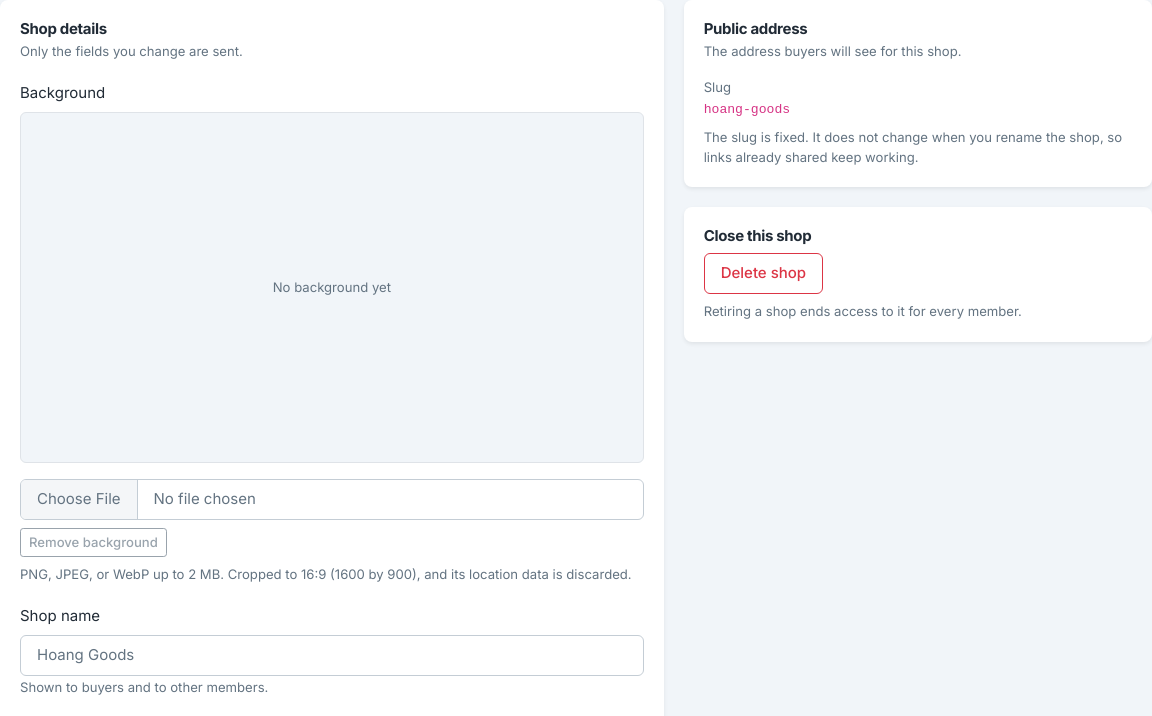
it: shop settings › requires the exact shop name before deleting
Click the button "Delete shop".
click(763, 274)  # box [704,254,823,294]
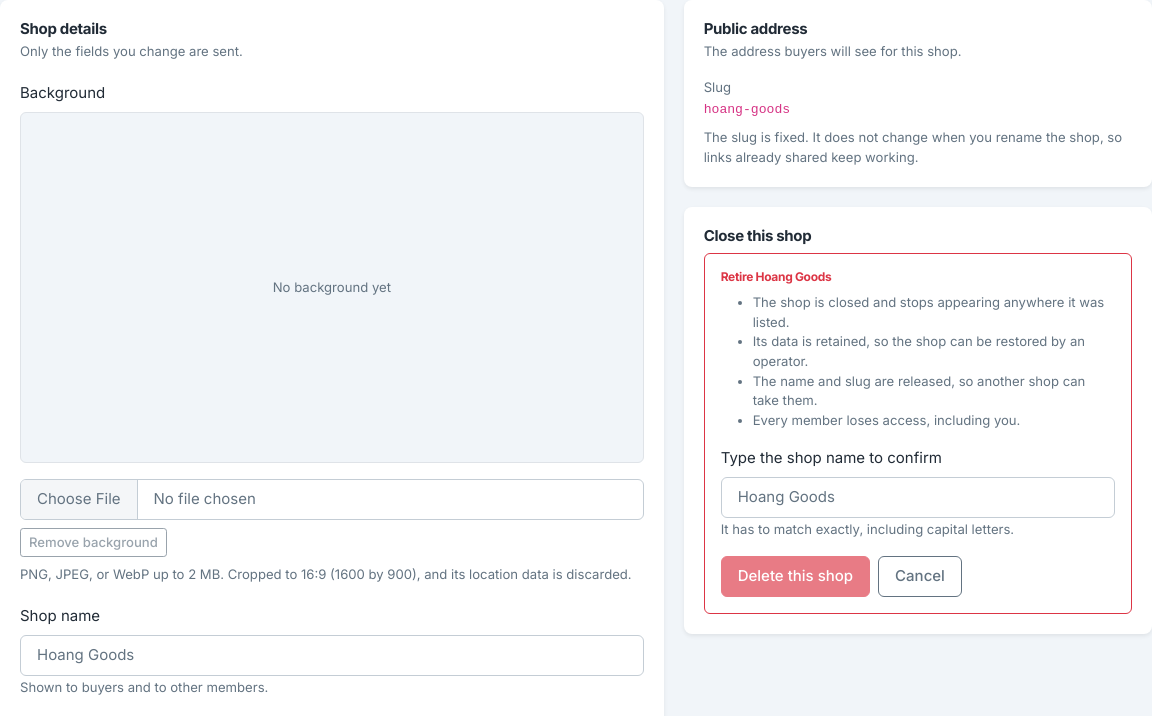
Expected: the button "Delete this shop" is disabled, [721,556,870,597]
Type "Hoang Good" into the field labelled "Type the shop name to confirm".
click(918, 497); type("Hoang Good")  # box [721,477,1115,518]
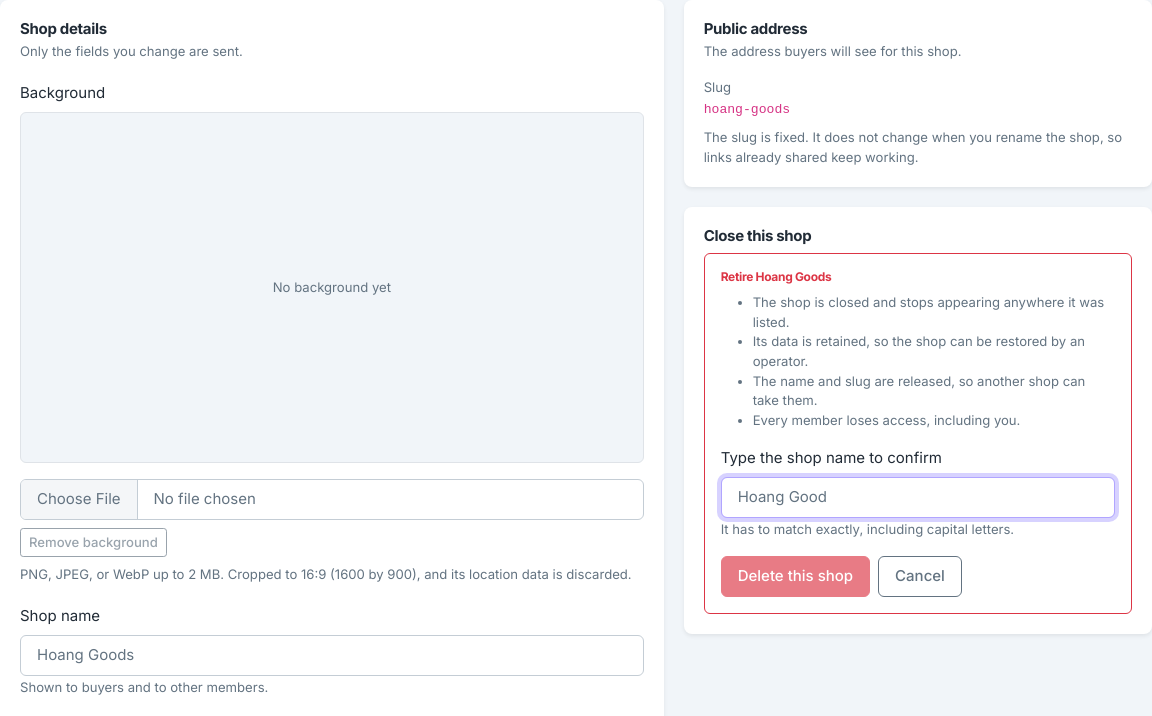
Expected: the button "Delete this shop" is disabled, [721,556,870,597]
Type "s" into the field labelled "Type the shop name to confirm".
click(918, 497); type("s")  # box [721,477,1115,518]
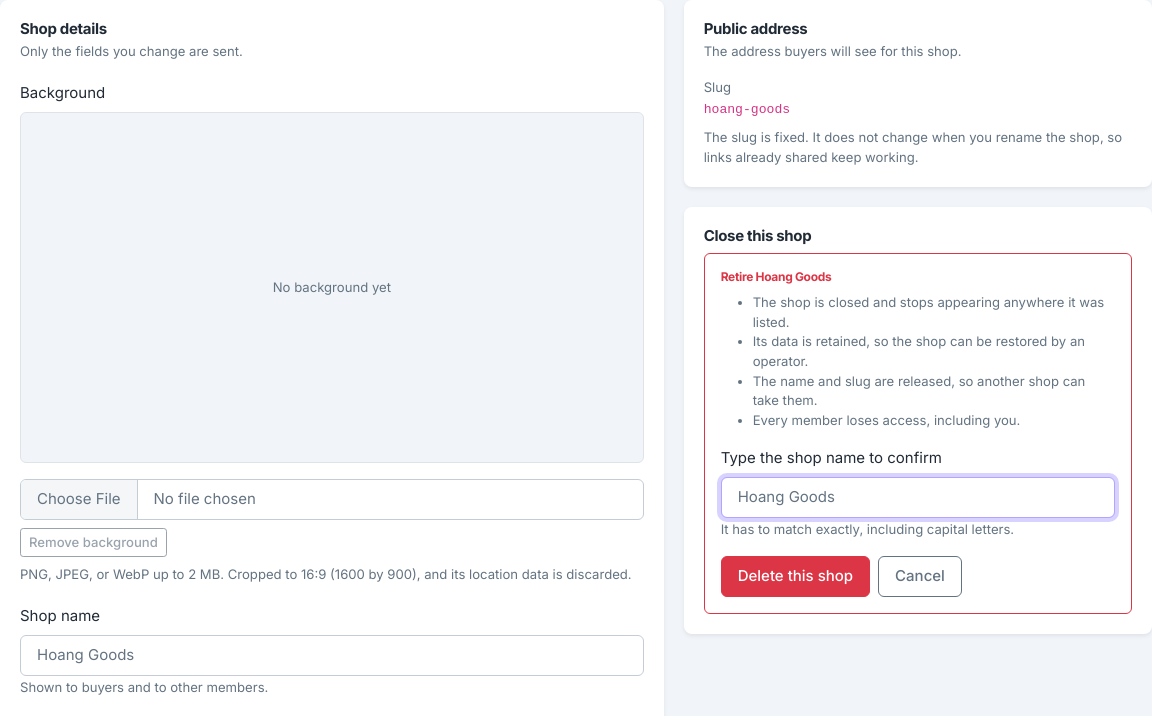
Expected: the button "Delete this shop" is enabled, [721,556,870,597]
